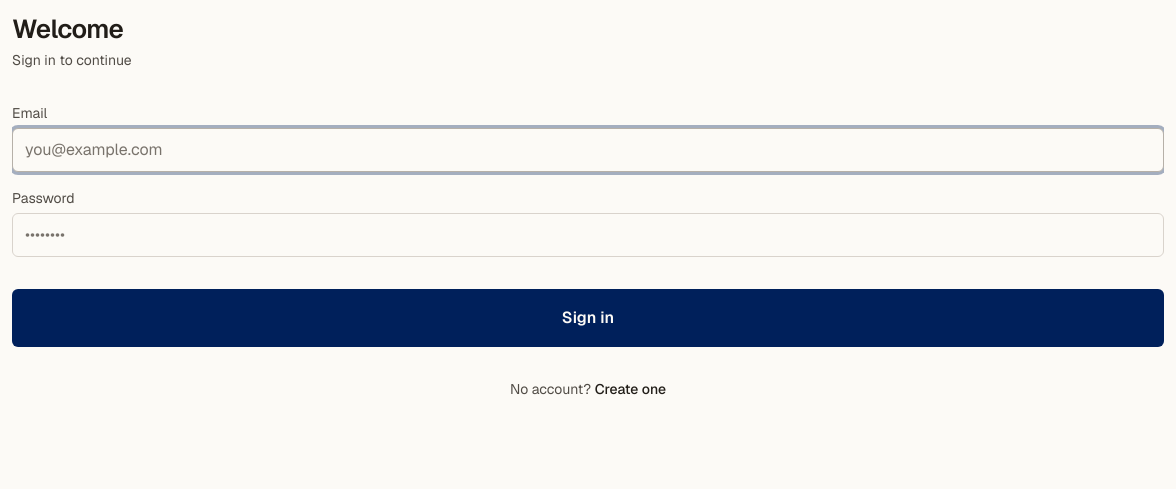
Scenario: LoginPage › shows validation error when fields empty
Click the button "Sign in" at (588, 318), box [12,289,1164,347]
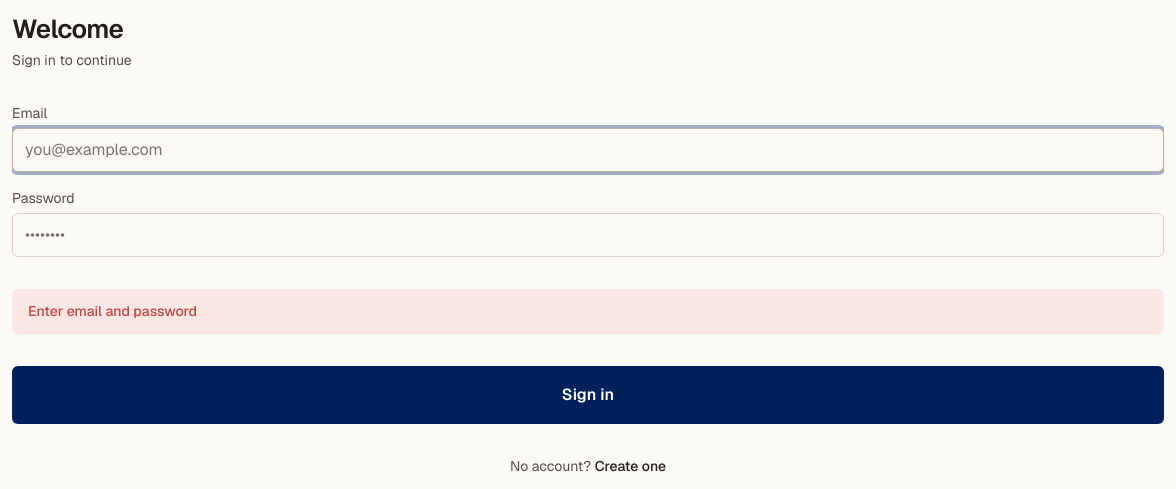
Expected: the message reads "Enter email and password", [28,302,197,320]
